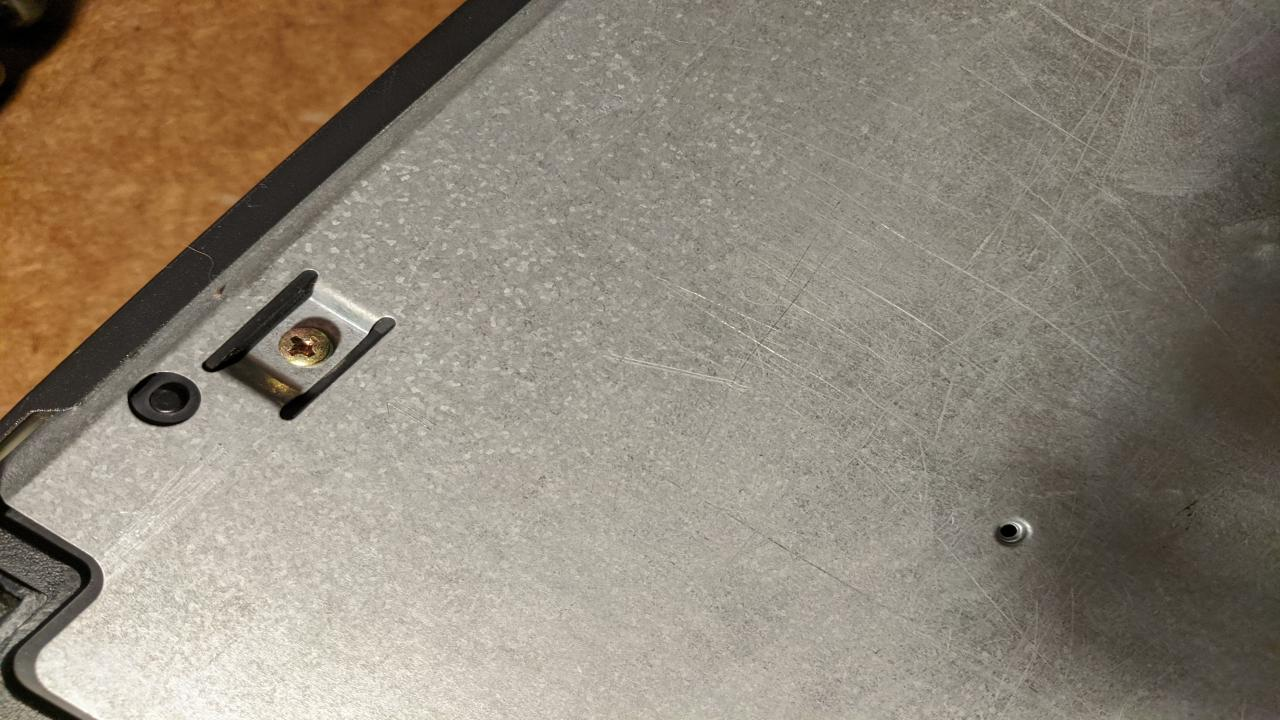CRS: (272, 324, 336, 368)
